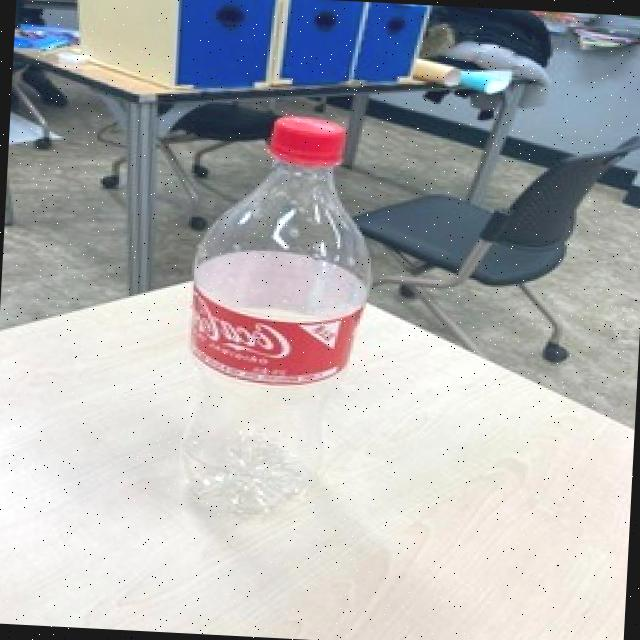bottle: (168, 105, 388, 531)
cap: (261, 116, 354, 174)
label: (160, 298, 375, 390)
